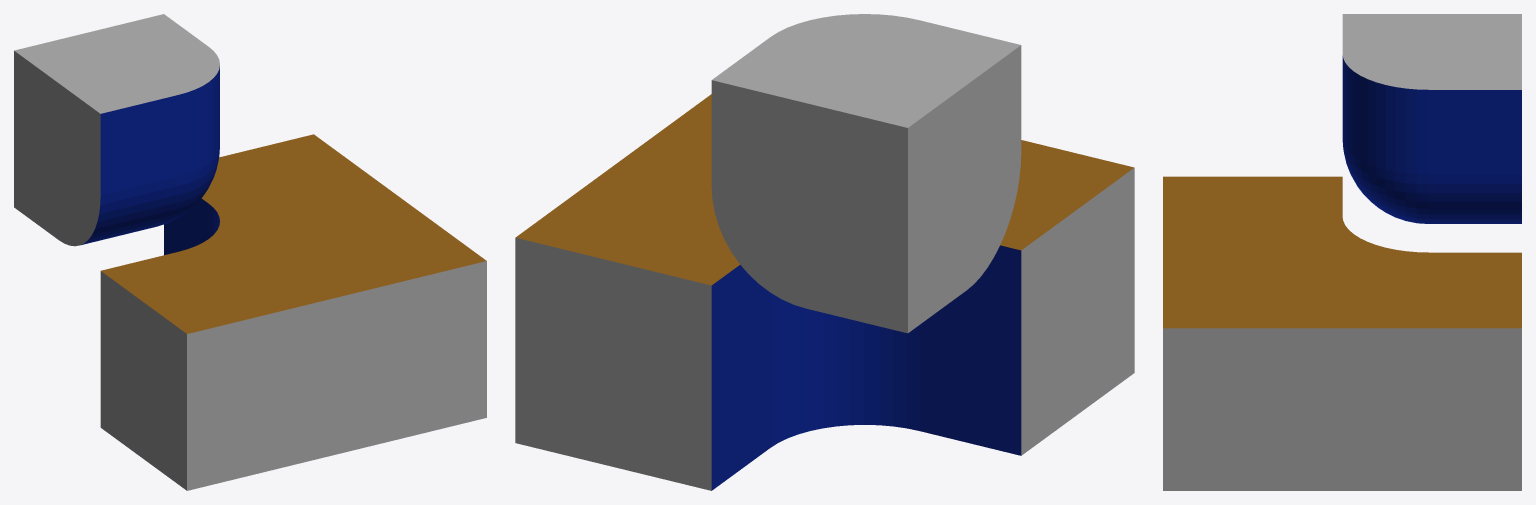
The model's file is case_30.fbx.
The picture shows the model from 3 angles, left to right: view 1: azimuth 30°, elevation 25°; view 2: azimuth 150°, elevation 25°; view 3: azimuth 270°, elevation 25°; orthographic projection. The views are drawn at different scales.
Visible parts, largest first — view 1: case_30; view 2: case_30; view 3: case_30.
Part boxes in pixels (x1,y1,x2,y2): case_30: [14, 14, 486, 490]; case_30: [515, 14, 1134, 490]; case_30: [1163, 14, 1521, 490].
Bounding box in the file's own units: 1 × 1 × 1.
